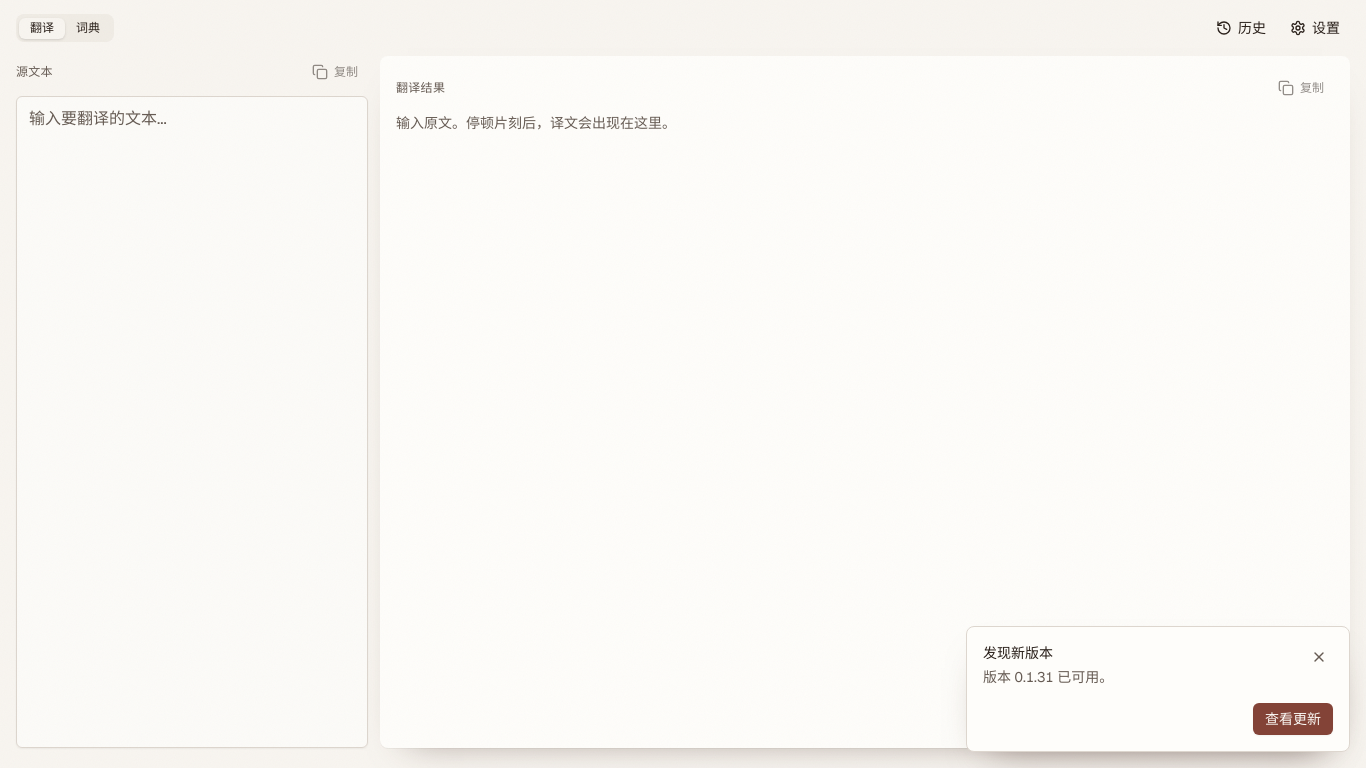
Test: home update toast › opens Settings from the toast without installing
Click the button "查看更新" at (1293, 719), box [1253,703,1333,735]
(page scrolled)
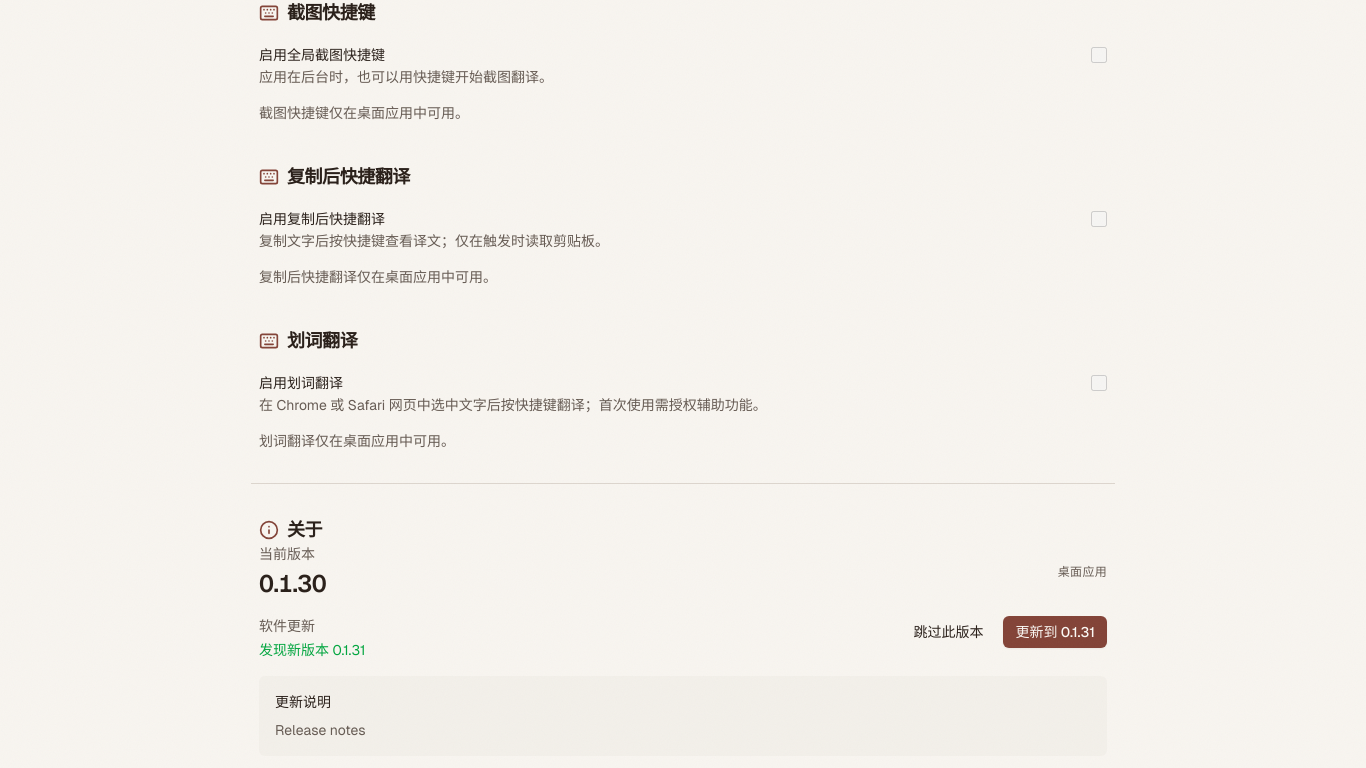
Expected: the heading "软件更新" is shown, [259,617,315,635]
Expected: the text "0.1.30" is shown, [259,568,326,600]
